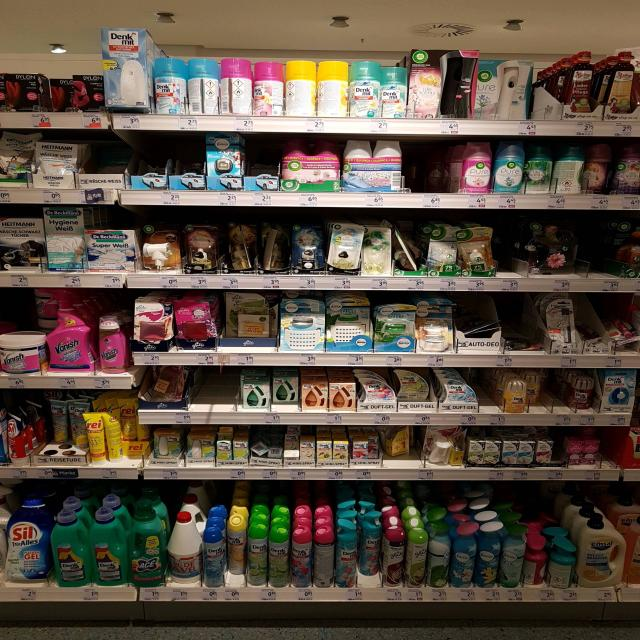void: (493, 216, 532, 294), (587, 216, 626, 291), (411, 139, 447, 208), (193, 369, 235, 424), (478, 371, 507, 427), (546, 369, 568, 427), (602, 427, 624, 481)
